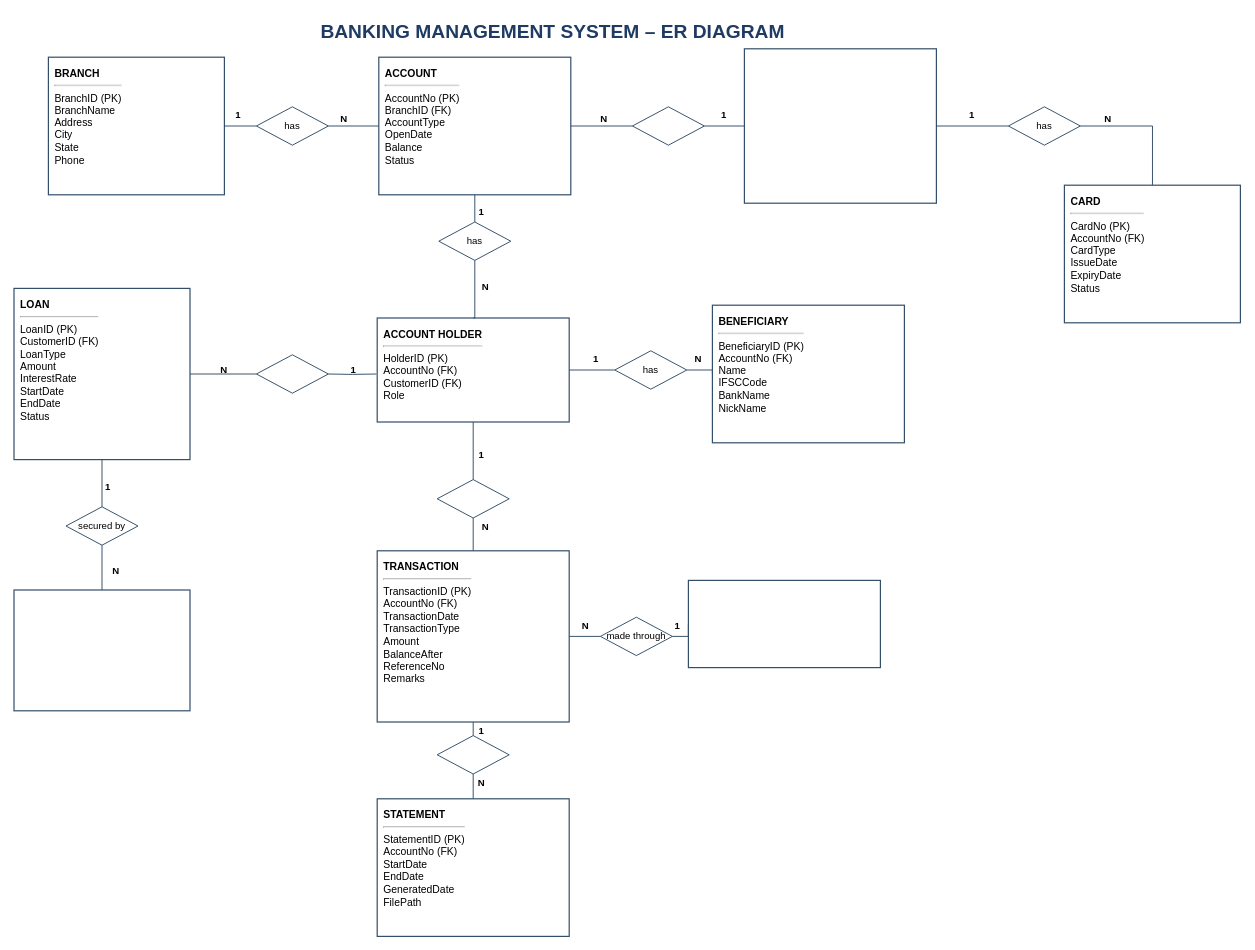
Some shapes in this 1255 by 950 pixel diagram are drawn without their labels. Each missing label, with the box of its shape:
CHANNEL ChannelID (PK) ChannelType Description: (687, 579, 881, 668)
COLLATERAL CollateralID (PK) LoanID (FK) Type Description Value: (13, 589, 190, 711)
CUSTOMER CustomerID (PK) Name DOB Gender Phone Email Address: (743, 48, 937, 203)
generates: (436, 735, 509, 774)
owned by: (632, 106, 704, 145)
performs: (436, 479, 509, 518)
takes: (256, 354, 328, 393)
